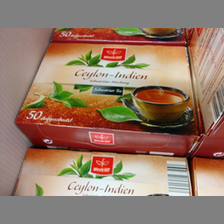tea: (14, 42, 201, 158)
